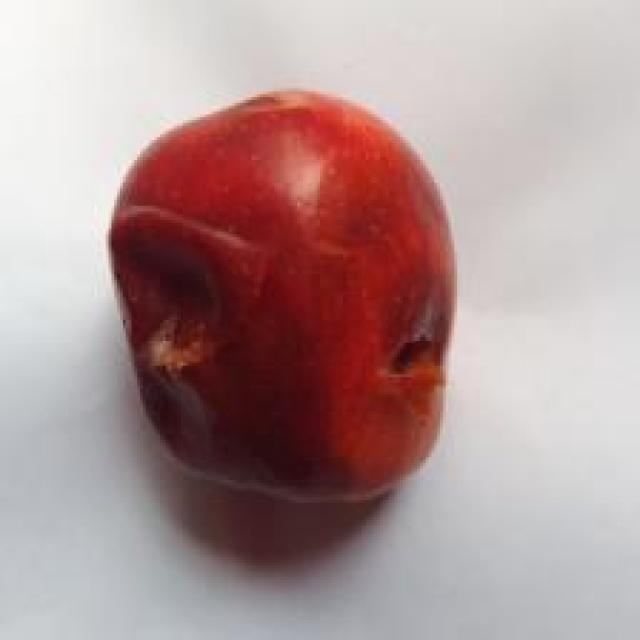rotten apple: (53, 51, 489, 584)
